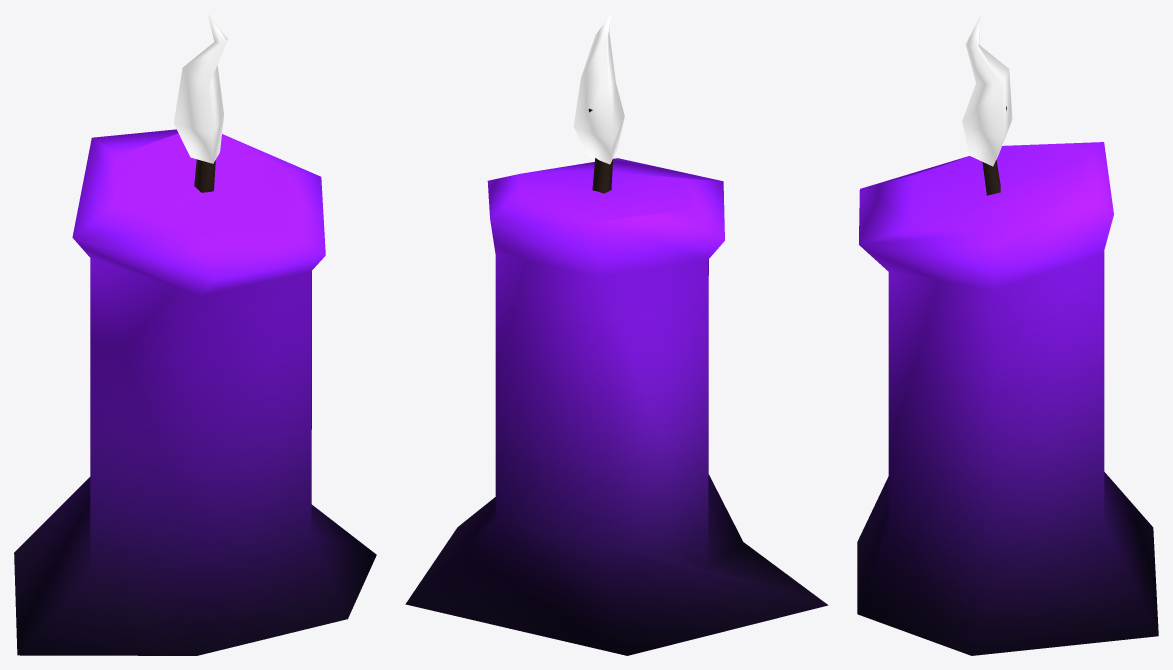
Rendered from CandleShapeD.025.glb.
The picture shows the model from 3 angles, left to right: view 1: azimuth 30°, elevation 25°; view 2: azimuth 150°, elevation 25°; view 3: azimuth 270°, elevation 25°; orthographic projection. The views are drawn at different scales.
Visible parts, largest first — view 1: CandleShapeD.025; view 2: CandleShapeD.025; view 3: CandleShapeD.025.
Part boxes in pixels (<box>): CandleShapeD.025: <box>14,15,376,655</box>; CandleShapeD.025: <box>405,14,828,655</box>; CandleShapeD.025: <box>857,14,1158,655</box>.
Size of the model in its own units: 0.1822 by 0.2697 by 0.1308.
2 materials, 2 textured.
